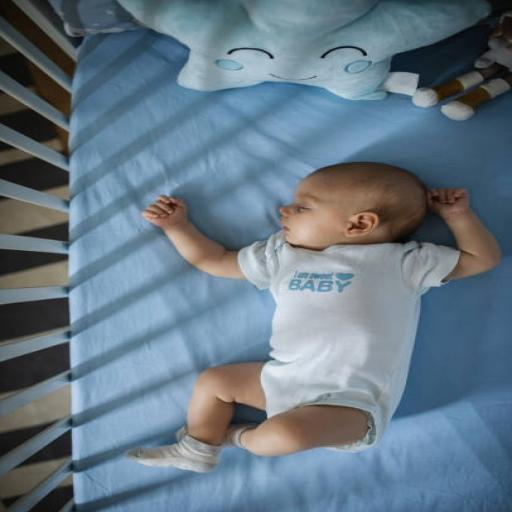baby: (128, 162, 500, 471)
crib: (2, 29, 511, 511)
